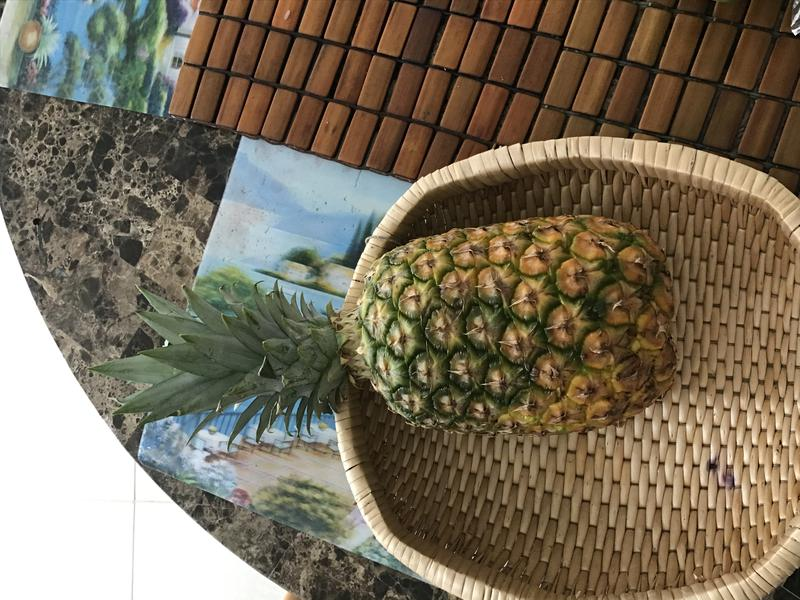pineapple: (87, 203, 684, 446)
